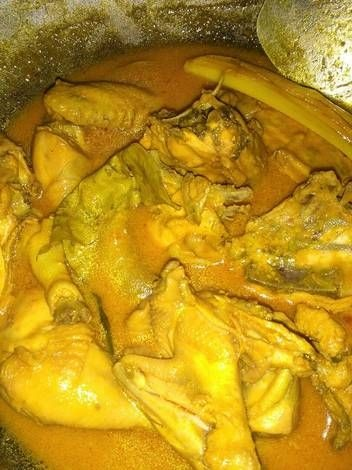gulai_ayam: (3, 44, 345, 454)
